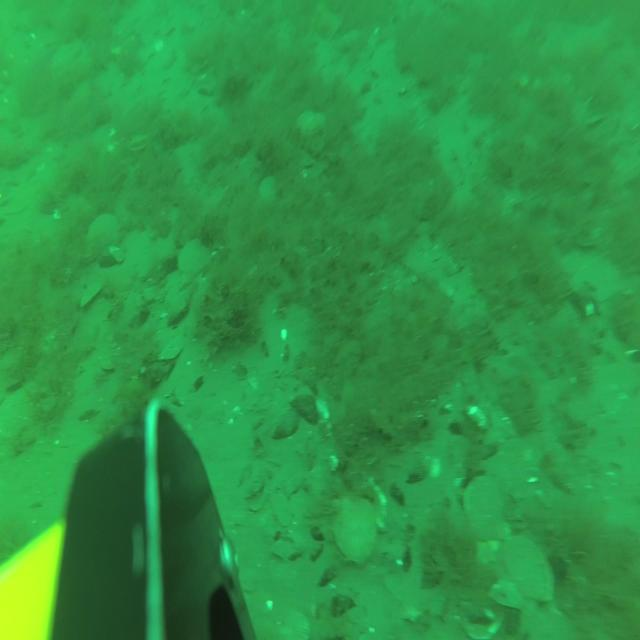scallop: (487, 530, 555, 611), (334, 494, 379, 566), (462, 471, 506, 543), (176, 234, 214, 287), (87, 211, 121, 255), (294, 105, 329, 142), (257, 170, 284, 210), (125, 129, 154, 156)
